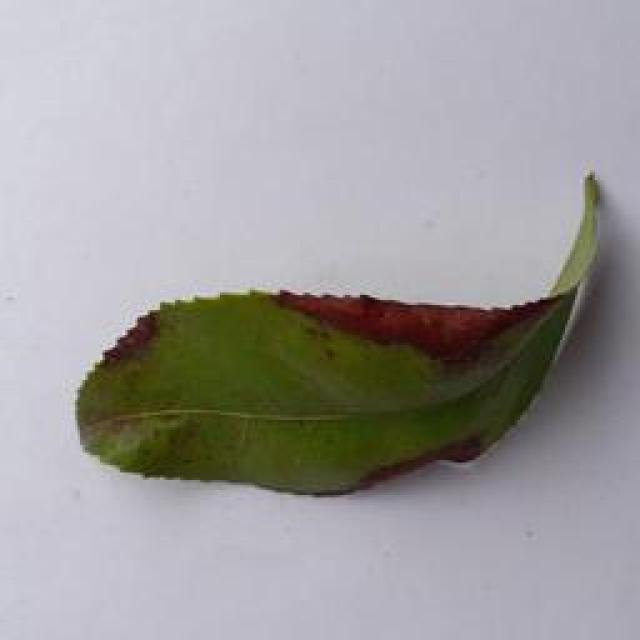Red Leaf Spot: (47, 162, 640, 536)
